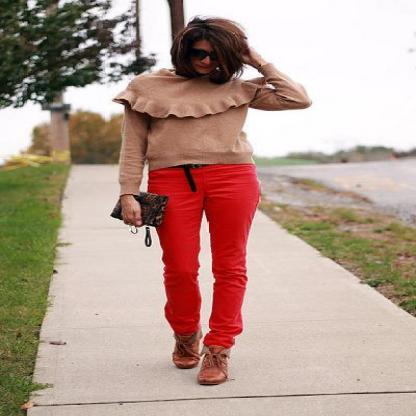bag: (113, 185, 168, 242)
jacket: (101, 64, 311, 195)
pants: (148, 164, 259, 353)
shoe: (172, 330, 228, 386)
